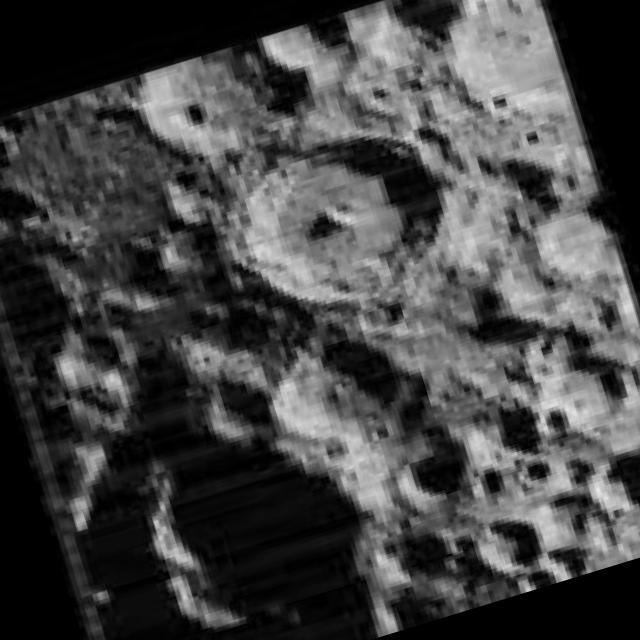crater: (206, 111, 470, 332)
